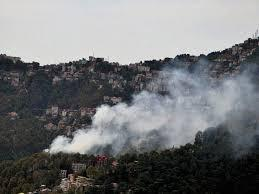yanwu: (43, 63, 259, 161)
